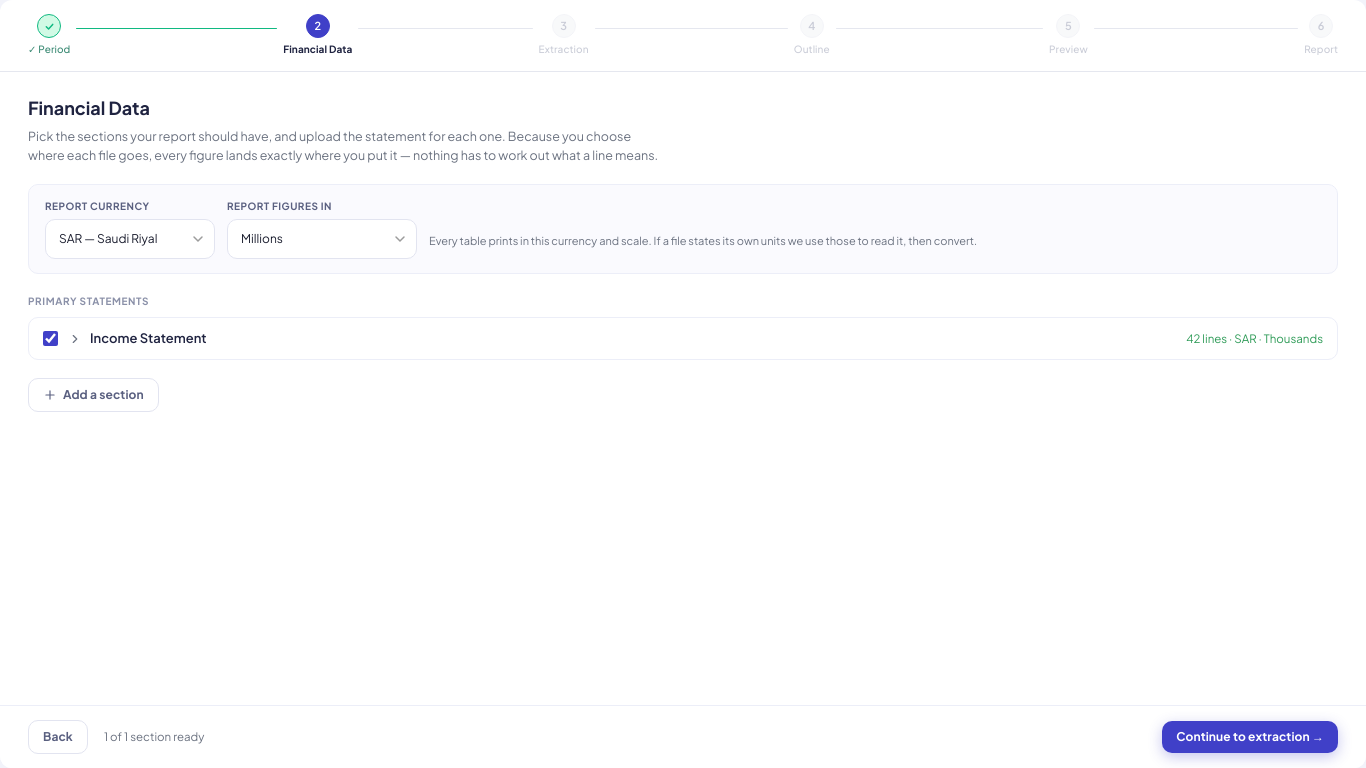
Financial Data screen › flags a scale nobody actually stated
This screenshot has width=1366, height=768.
expect the text "Financial Data" is shown: met, box [283, 42, 352, 57]
Click the button "Income Statement".
click(148, 338)  # box [68, 329, 1176, 348]
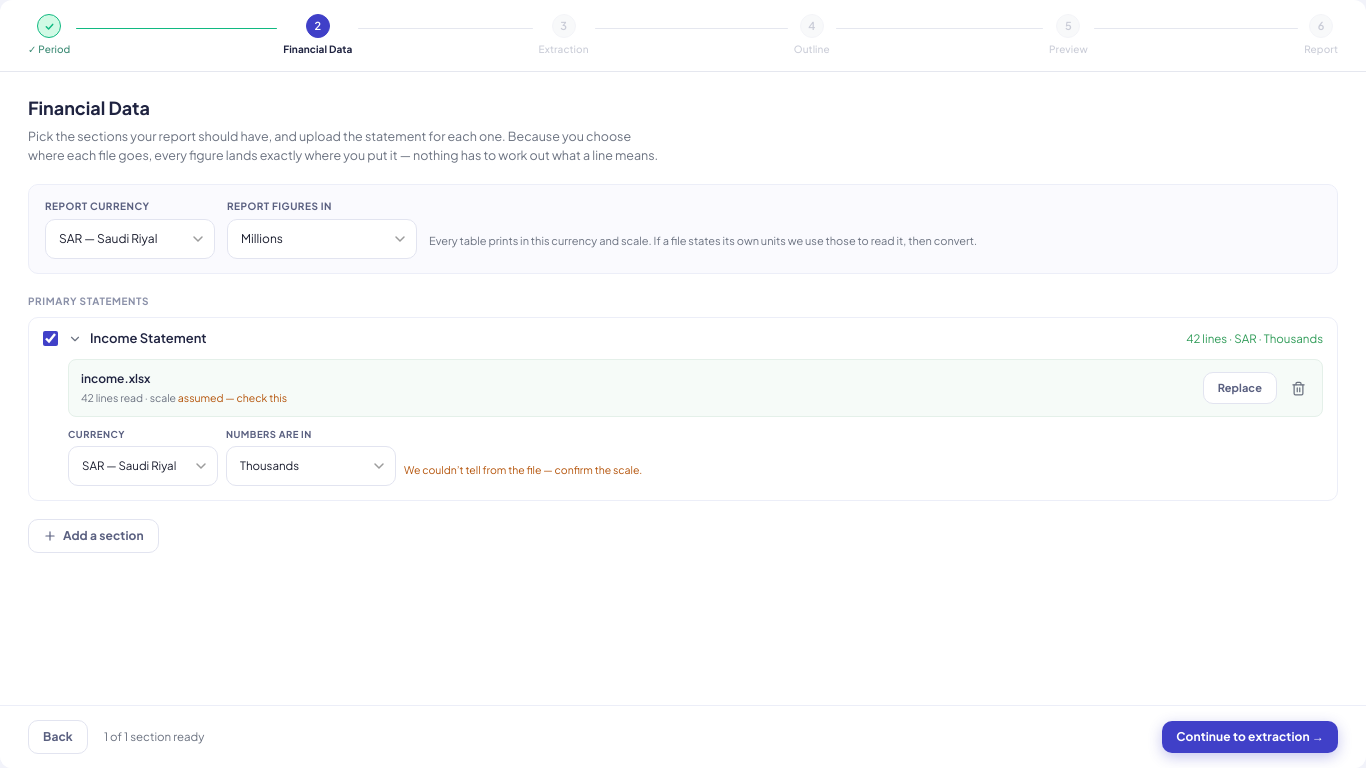
expect the text "assumed — check this" is shown: met, box [178, 391, 287, 404]
expect the text "We couldn’t tell from the file — confirm the scale." is shown: met, box [404, 463, 642, 476]
